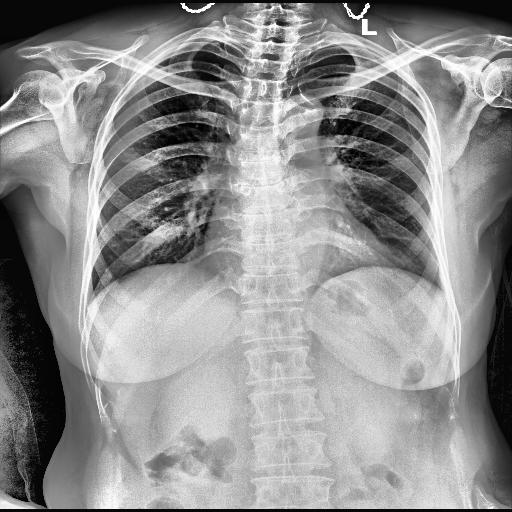0- Aortic enlargement: (272, 91, 323, 147), (276, 92, 324, 136), (272, 94, 322, 132)
11- Pleural thickening: (202, 38, 220, 42)
3- Cardiomegaly: (200, 222, 388, 276), (201, 235, 386, 287)
